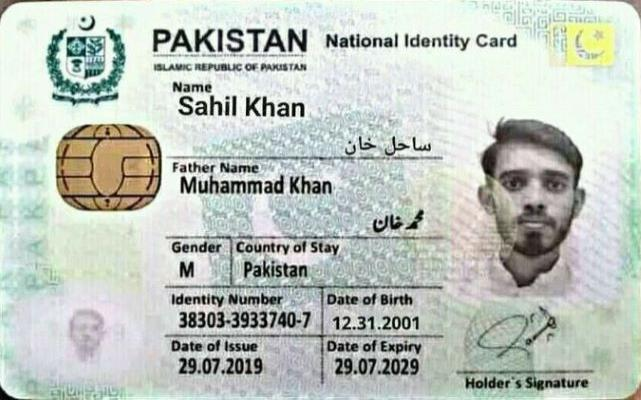fname: (177, 172, 334, 197)
name: (174, 91, 311, 123)
number: (176, 308, 314, 334)
